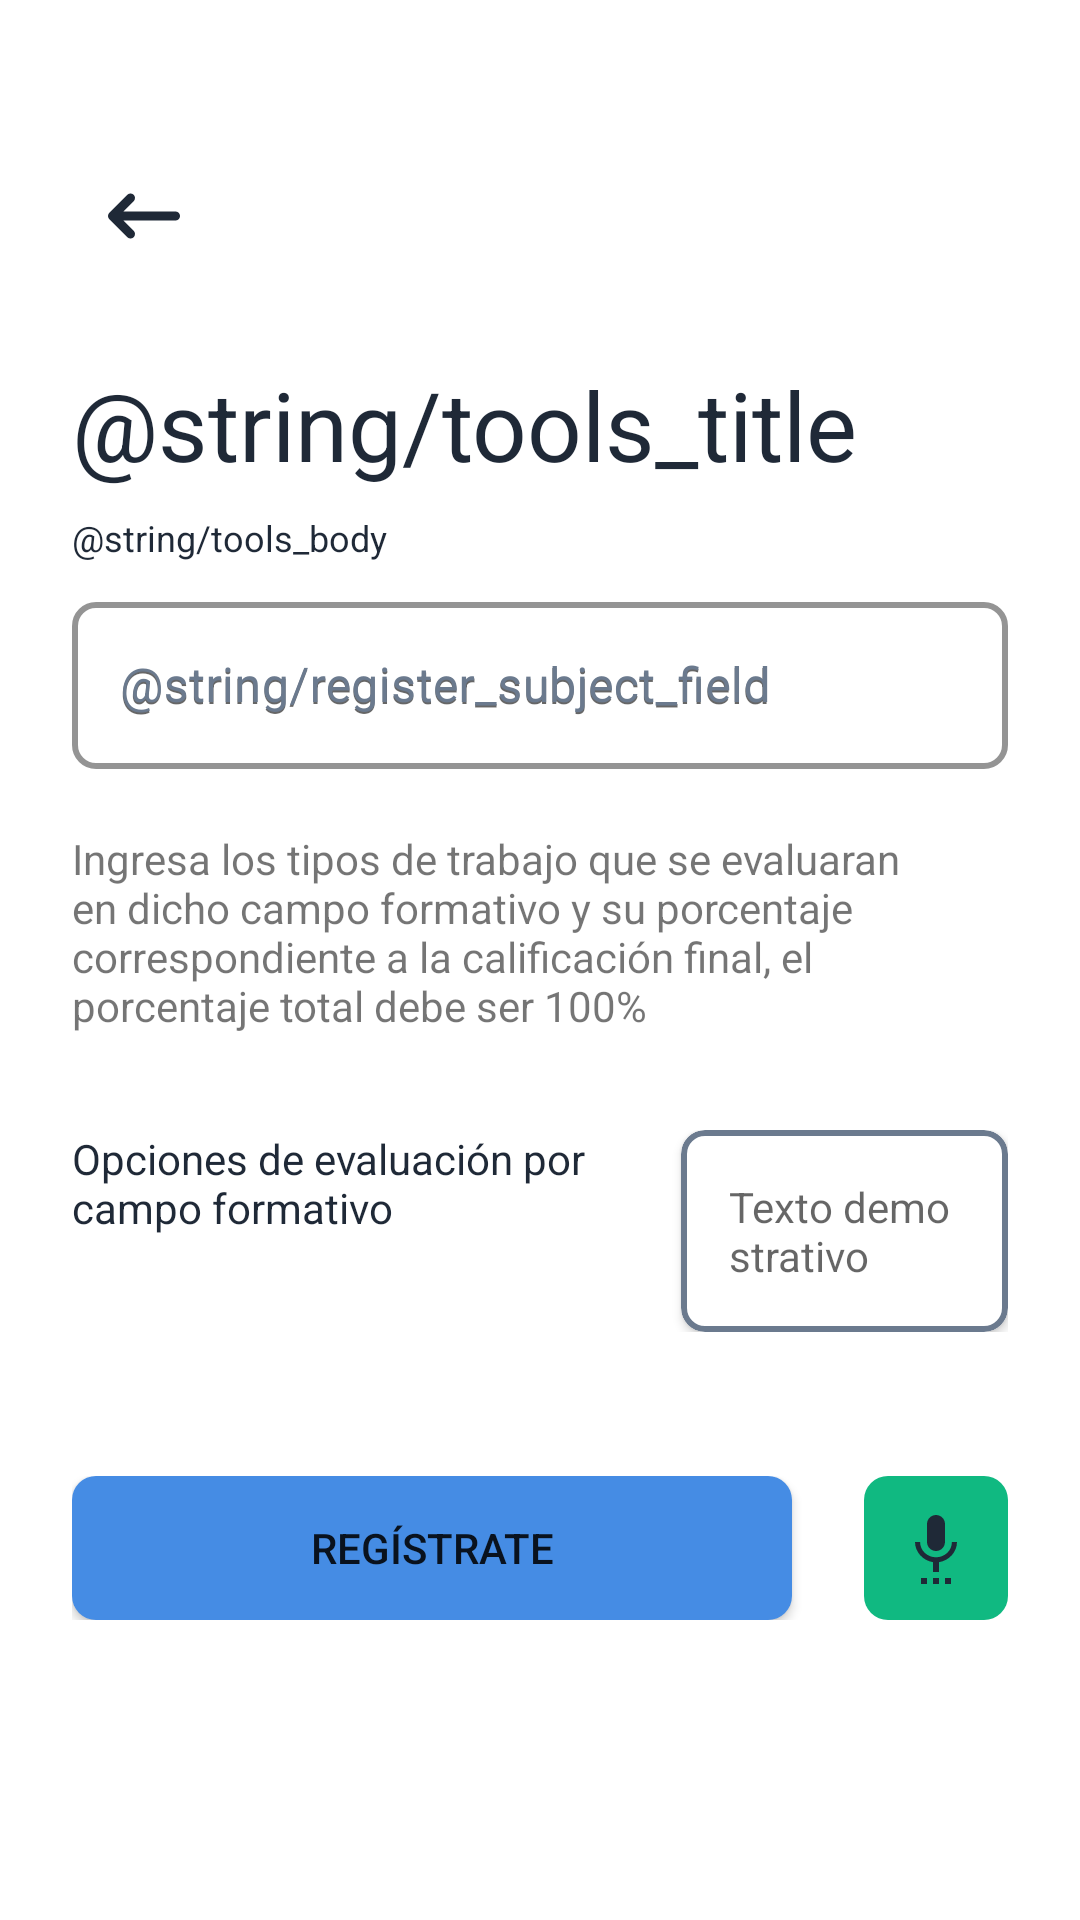

Screen size 1080px x 1920px. Icon name, then its box in pixels as rect(x1, y1, x2, y2):
return: rect(108, 193, 180, 239)
voice: rect(864, 1476, 1008, 1620)
